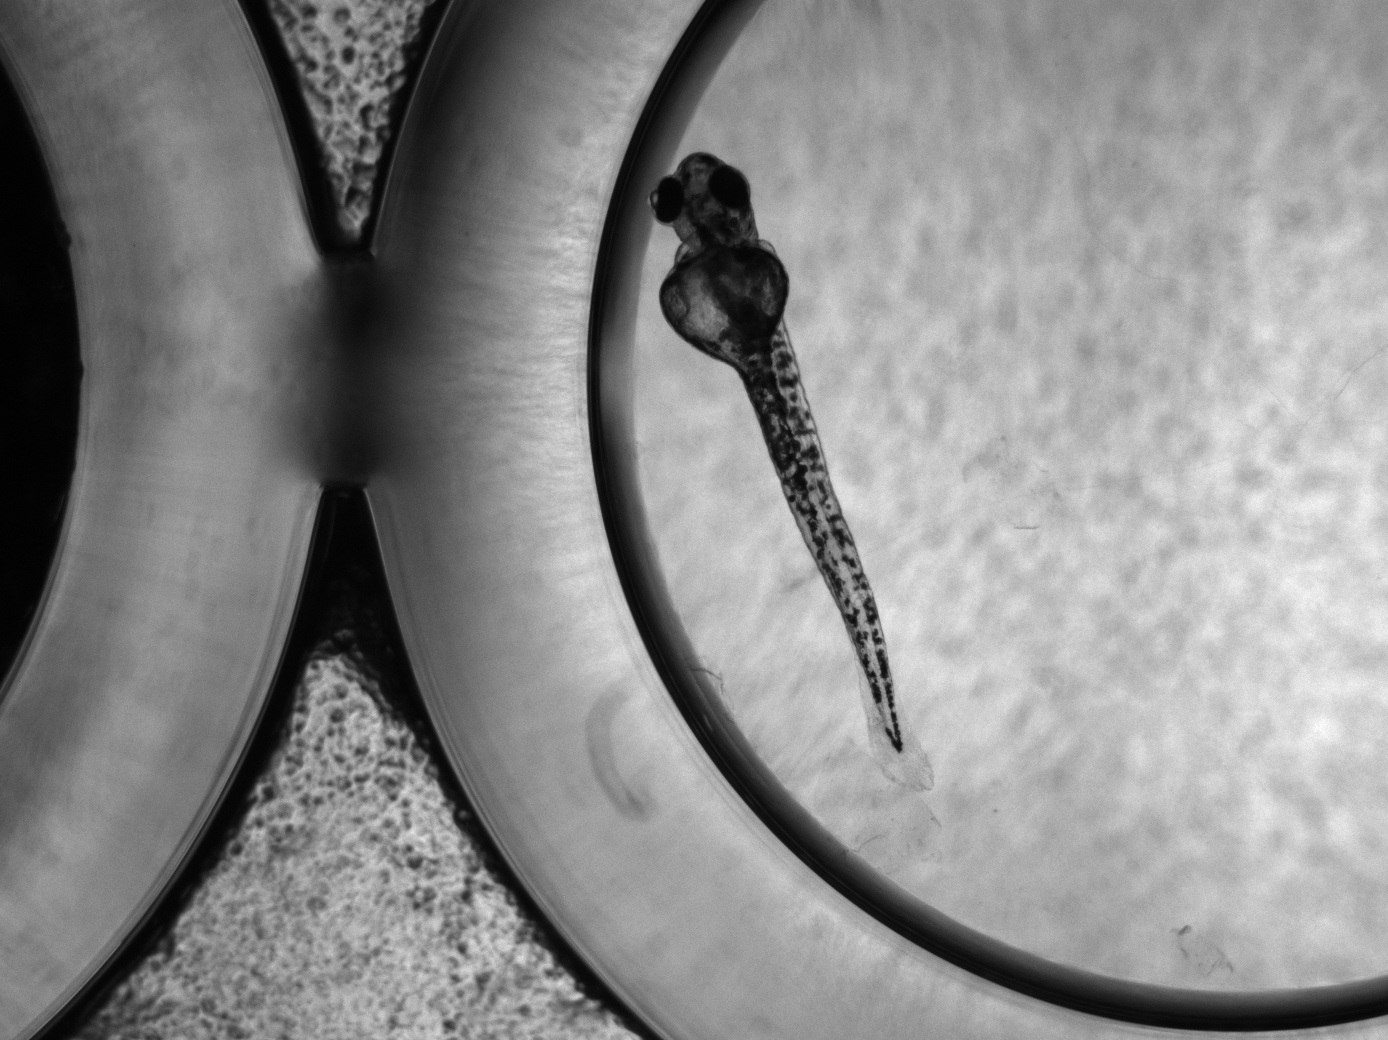embryo: (649, 152, 904, 756)
eye: (707, 165, 751, 210), (650, 176, 685, 223)
yolksac: (659, 245, 790, 364)
